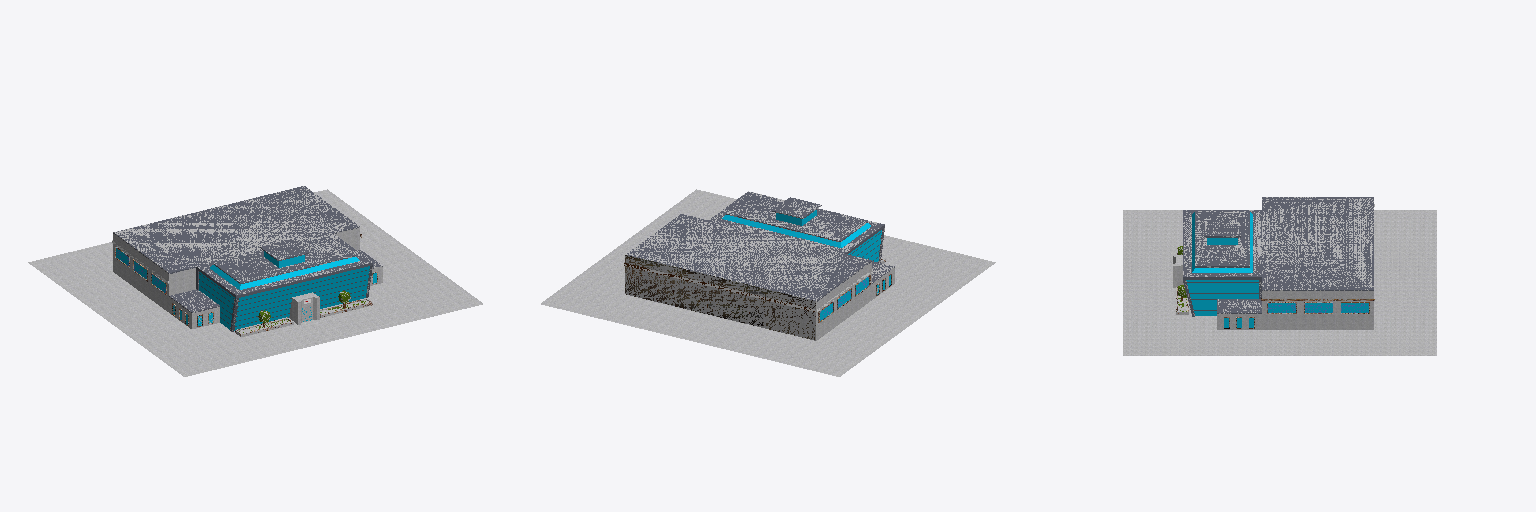
3 views of the same model, side by side, from view 1: azimuth 30°, elevation 25°; view 2: azimuth 150°, elevation 25°; view 3: azimuth 270°, elevation 25° (orthographic).
Visible parts, largest first — view 1: Mesh1 Model; view 2: Mesh1 Model; view 3: Mesh1 Model.
Boxes of the visible parts, box(x1,y1,x2,y2) form: Mesh1 Model: box(28, 186, 482, 376); Mesh1 Model: box(541, 189, 995, 376); Mesh1 Model: box(1123, 197, 1436, 355).
Size of the model in its own units: 55.15 by 9.6 by 50.
Materials: 15 (5 with a texture image).